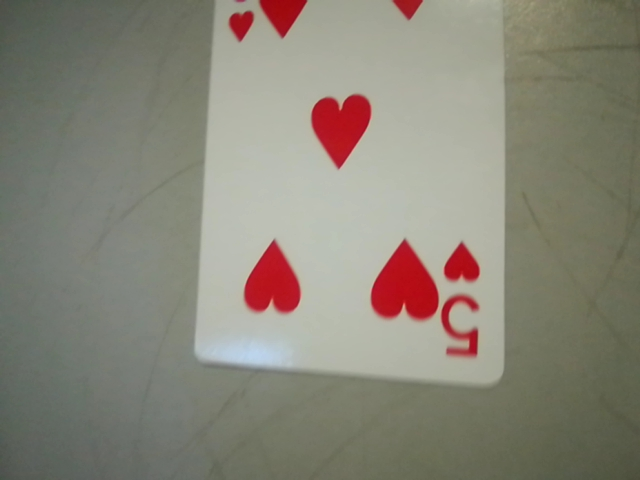hx 5: (434, 234, 497, 369)
